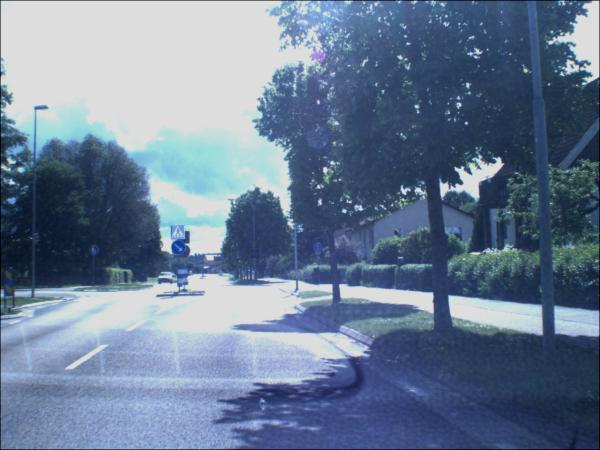NO_PARKING: (252, 251, 261, 260)
PASS_RIGHT_SIDE: (173, 241, 187, 256)
PEDESTRIAN_CROSSING: (173, 227, 187, 241)
